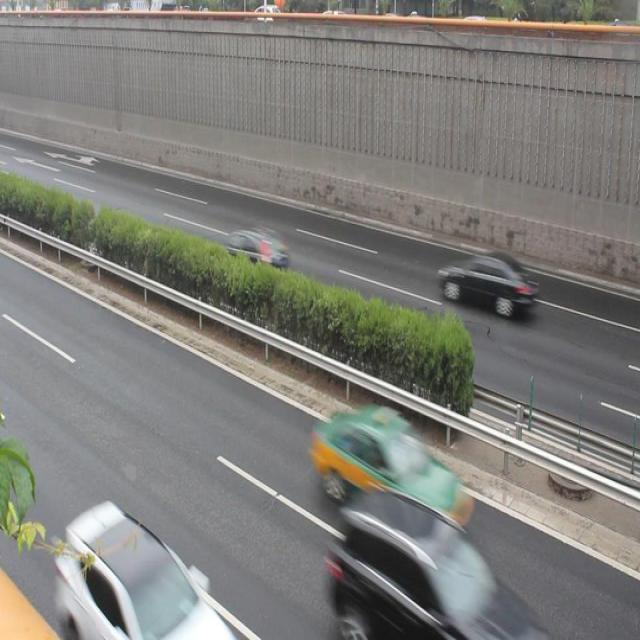car: (328, 489, 533, 640), (58, 505, 230, 640), (314, 400, 474, 532), (437, 247, 536, 321), (217, 228, 290, 290)
